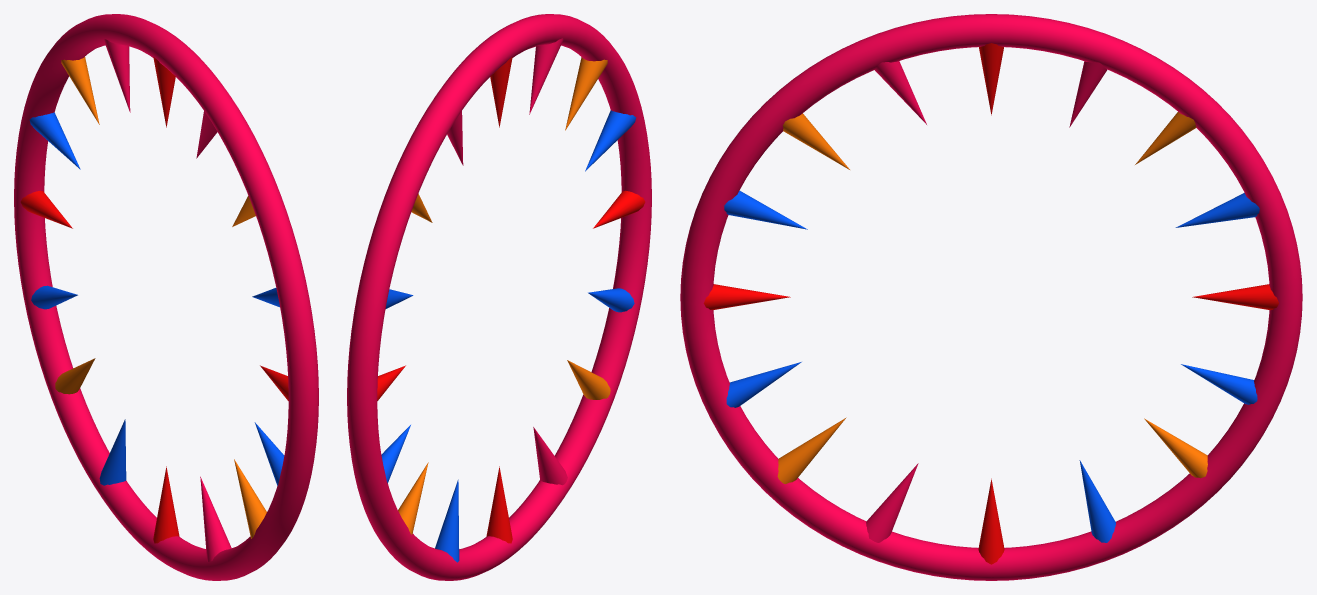
Rendered from TRÒN XOAY.fbx.
3 renders of one model, left to right at view 1: azimuth 30°, elevation 25°; view 2: azimuth 150°, elevation 25°; view 3: azimuth 270°, elevation 25°, orthographic. The views are drawn at different scales.
Parts seen in each view (by area): view 1: Cone_11; view 2: Cone_11; view 3: Cone_11.
Part boxes in pixels (left/top/right/bottom): Cone_11: left=14, top=14, right=318, bottom=580; Cone_11: left=347, top=14, right=651, bottom=580; Cone_11: left=680, top=14, right=1302, bottom=580.
Bounding box in the file's own units: 18.56 × 352 × 352.
